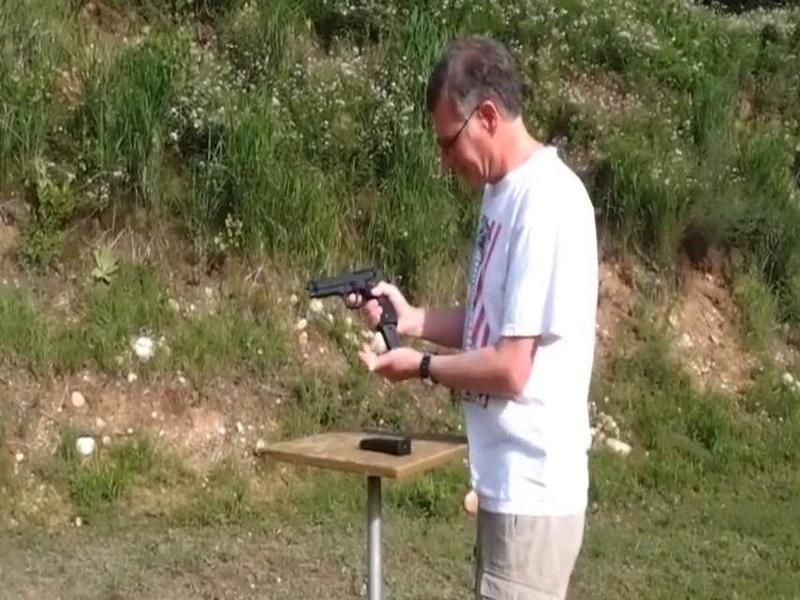Pistola: (315, 258, 404, 338)
